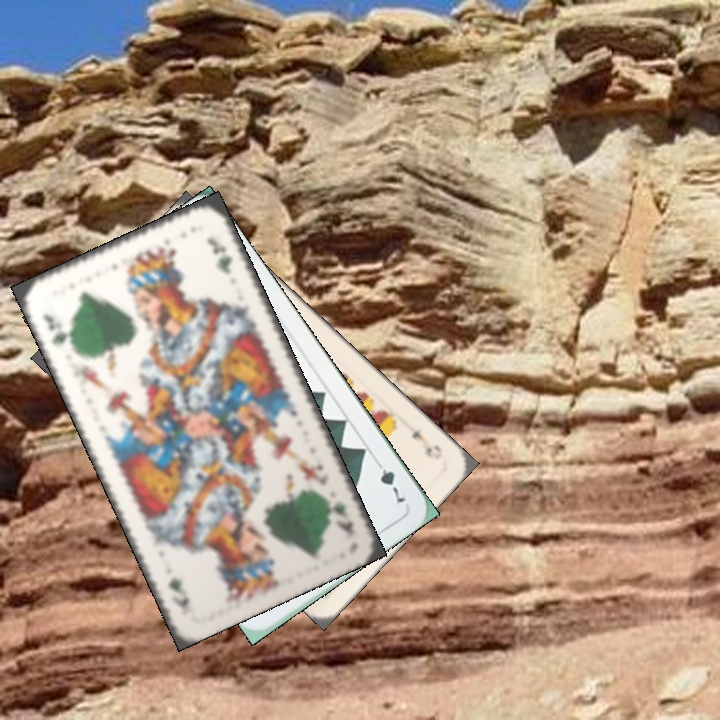E9: (407, 426, 445, 462)
G7: (370, 454, 409, 506)
GK: (319, 490, 357, 538), (38, 309, 76, 351)
